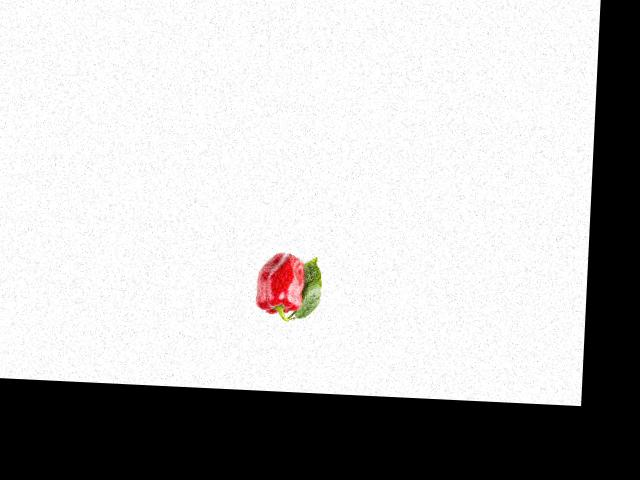bell_pepper: (248, 248, 309, 321)
